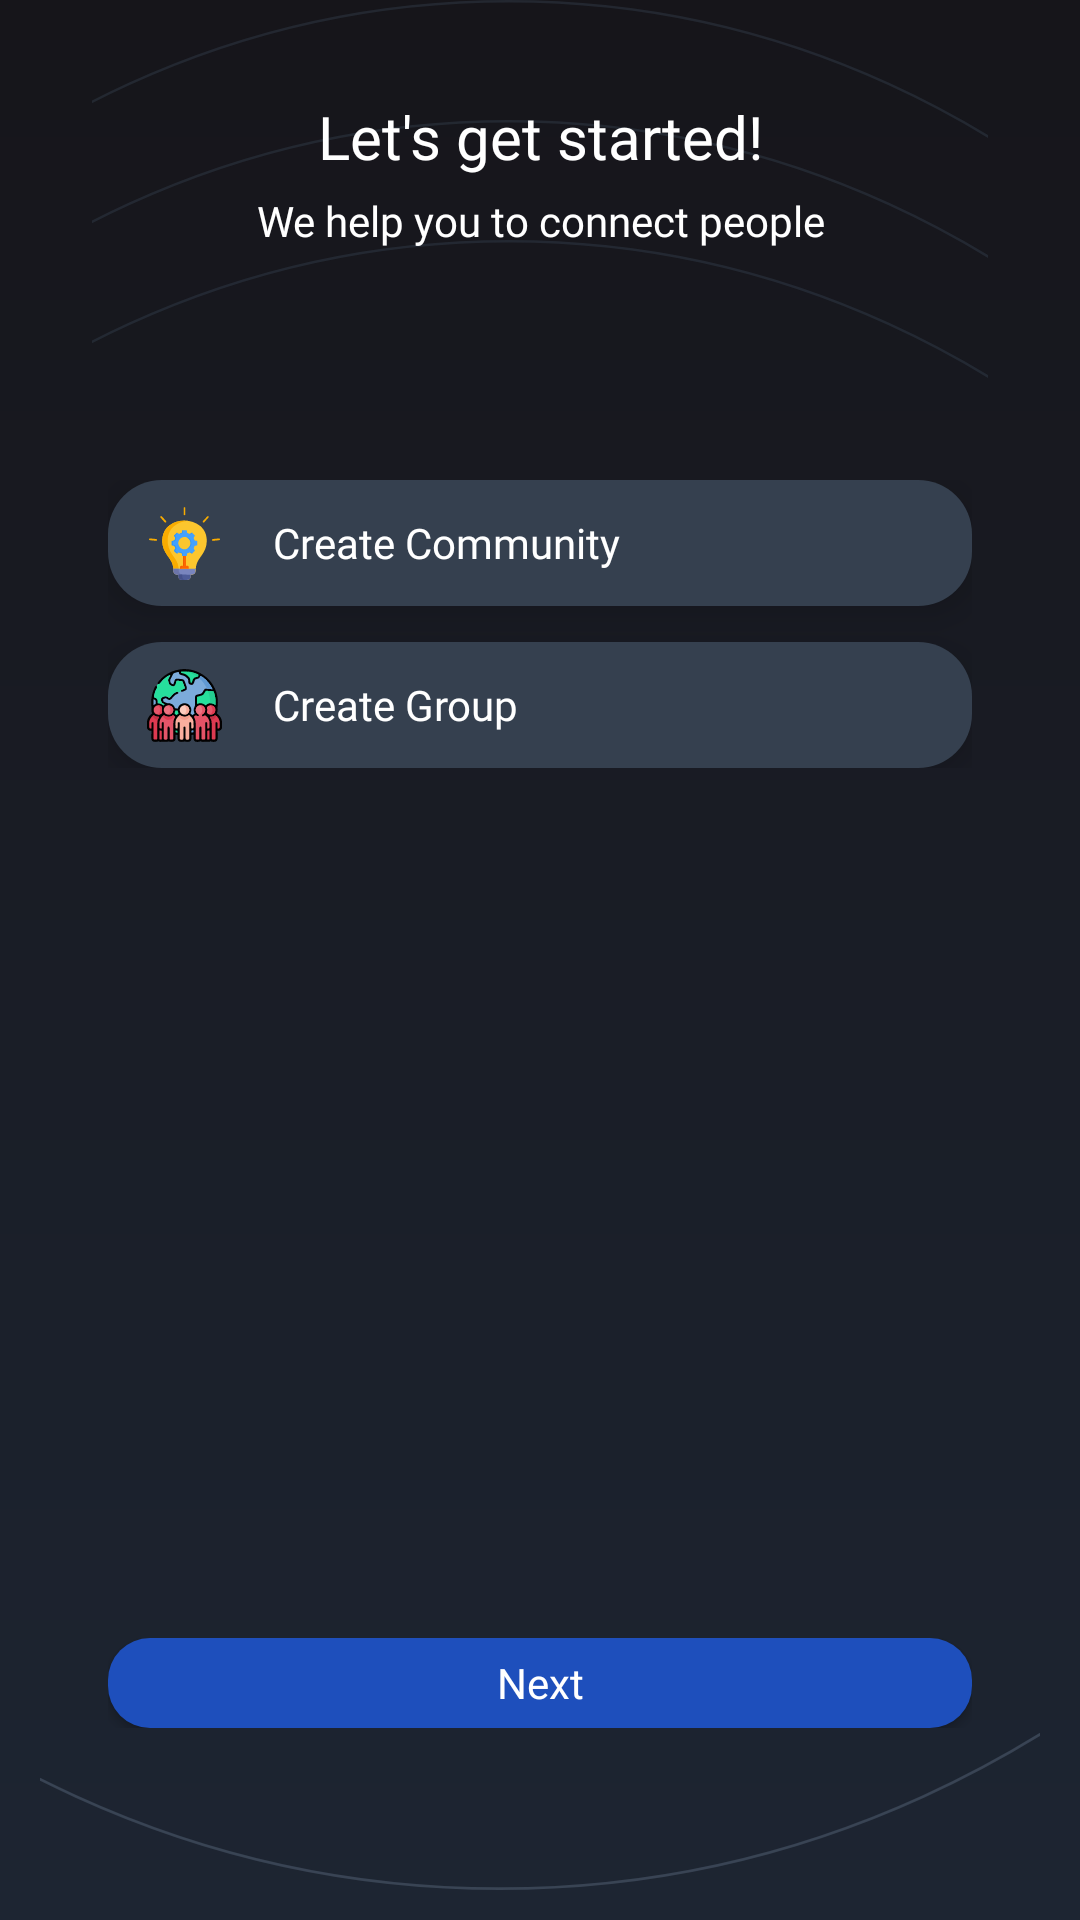

Icons on this 1080x1920 Android screen, each with its box as (x1, y1, x2, y2):
create my own comm: (149, 507, 220, 580)
